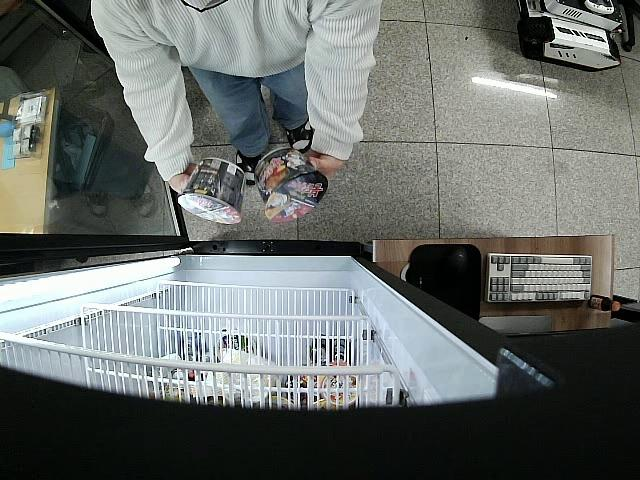07_buldak_L: (255, 148, 327, 224), (177, 158, 247, 227)
